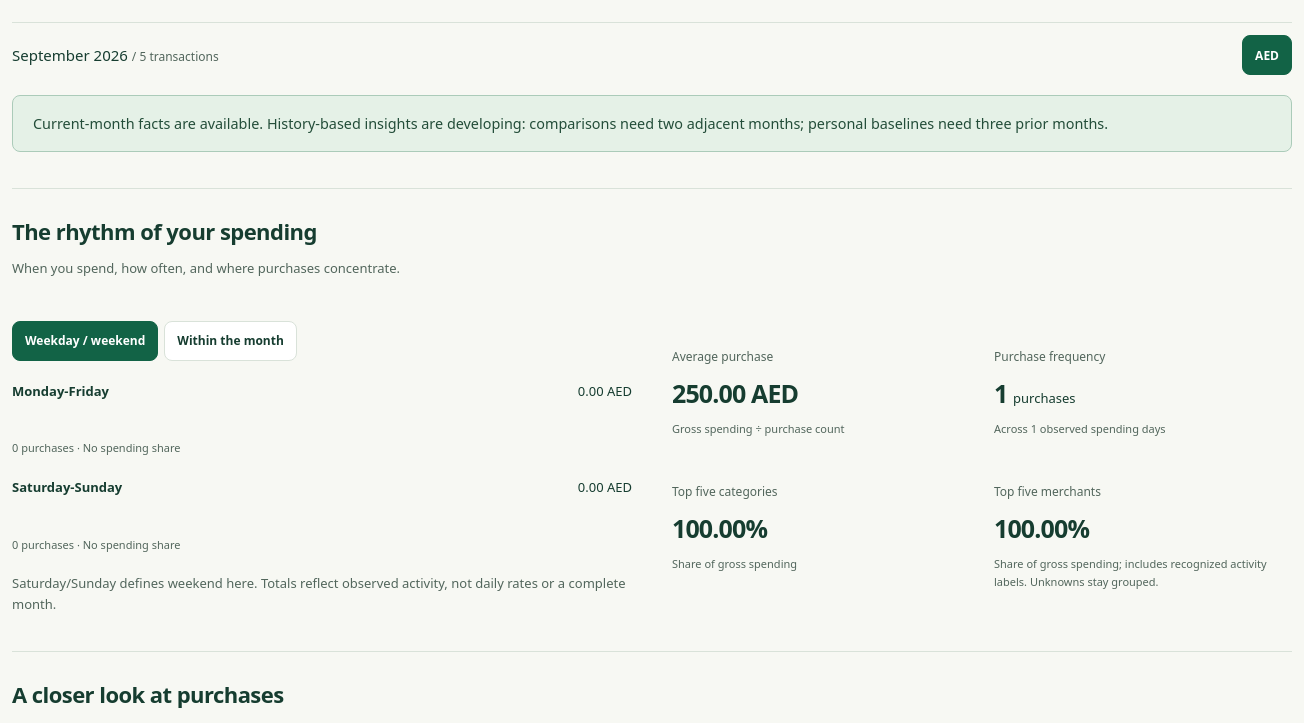
switches date patterns and progressively discloses purchase detail
This screenshot has width=1304, height=723.
Check: the heading "The rhythm of your spending" is shown, box left=12, top=216, right=317, bottom=246
Check: the text "Saturday-Sunday" is shown, box left=12, top=477, right=122, bottom=498
Click the button "Within the month". click: (231, 341)
box: left=164, top=321, right=297, bottom=361
(page scrolled)
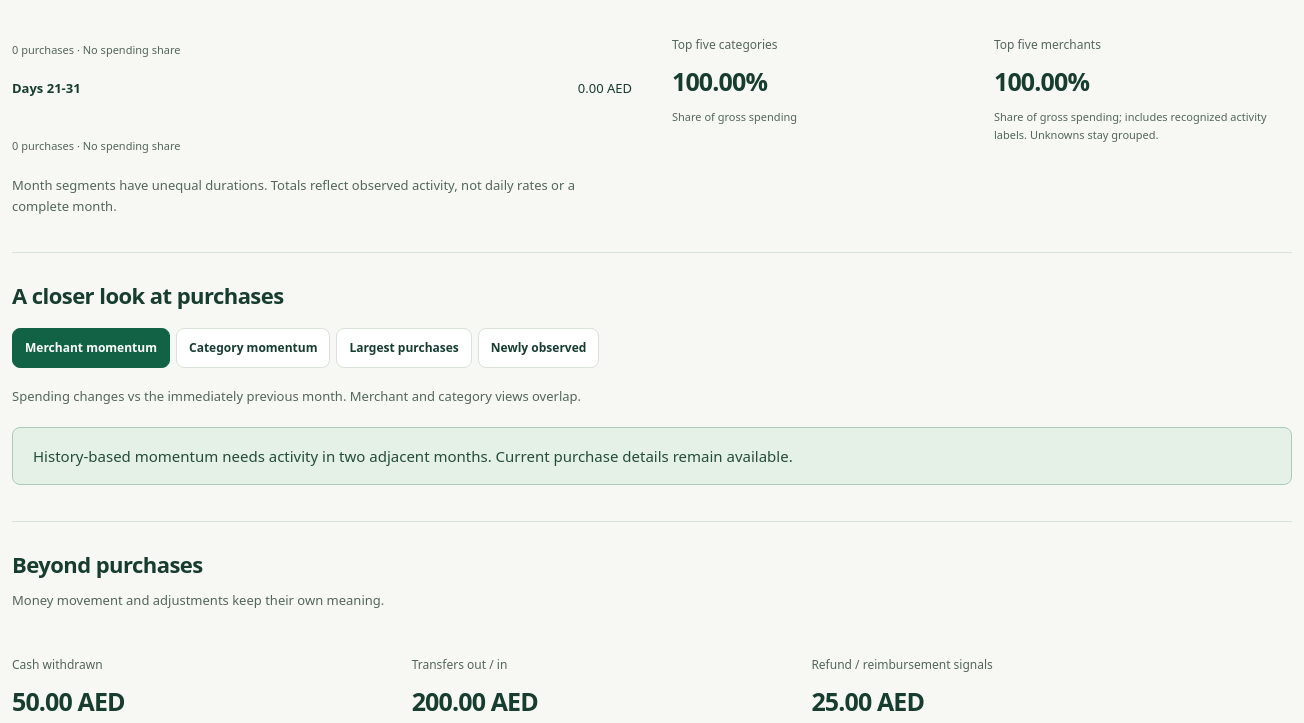
Check: the text "Days 21-31" is shown, box left=12, top=78, right=81, bottom=99
Check: the text "Saturday-Sunday" is gone
Click the button "Largest purchases". click: (404, 348)
box: left=336, top=328, right=472, bottom=368
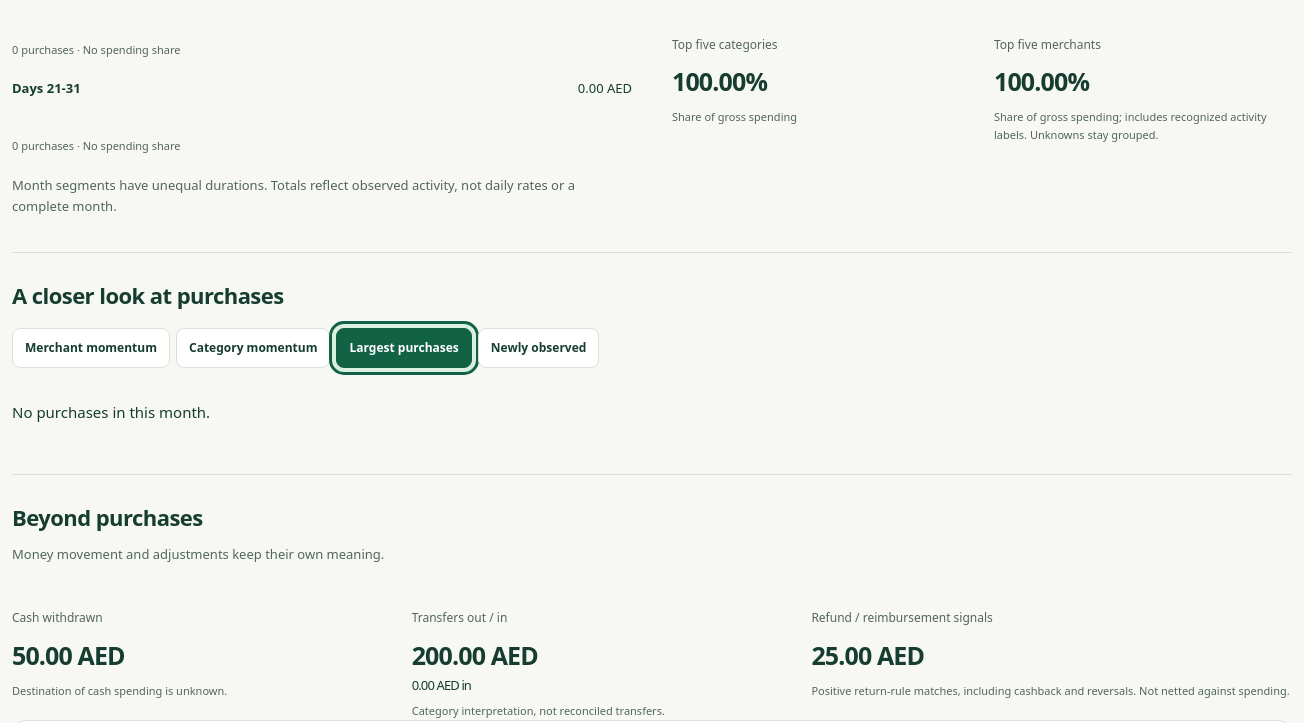
Check: the list item "No purchases in this month." is shown, box left=12, top=402, right=210, bottom=422
Click the button "Newly observed". click: (539, 348)
box: left=478, top=328, right=599, bottom=368
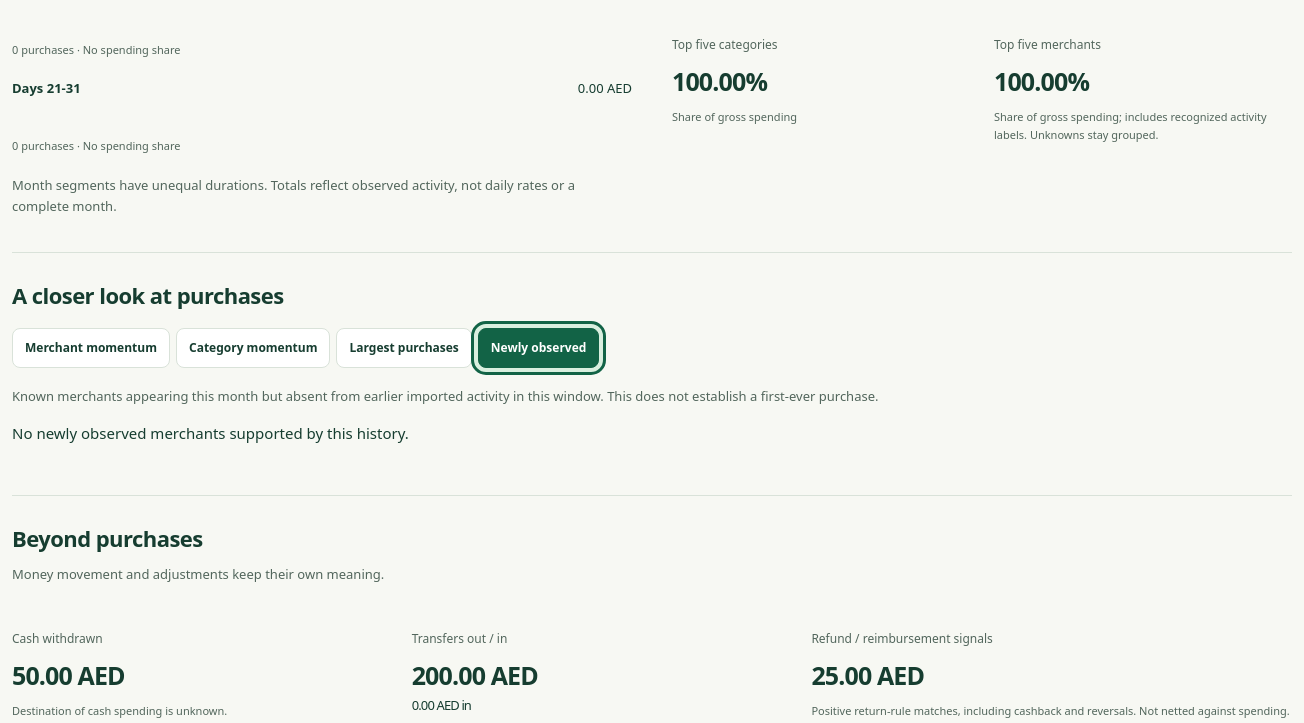
Check: the text "does not establish a first-ever purchase" is shown, box left=12, top=387, right=878, bottom=405
